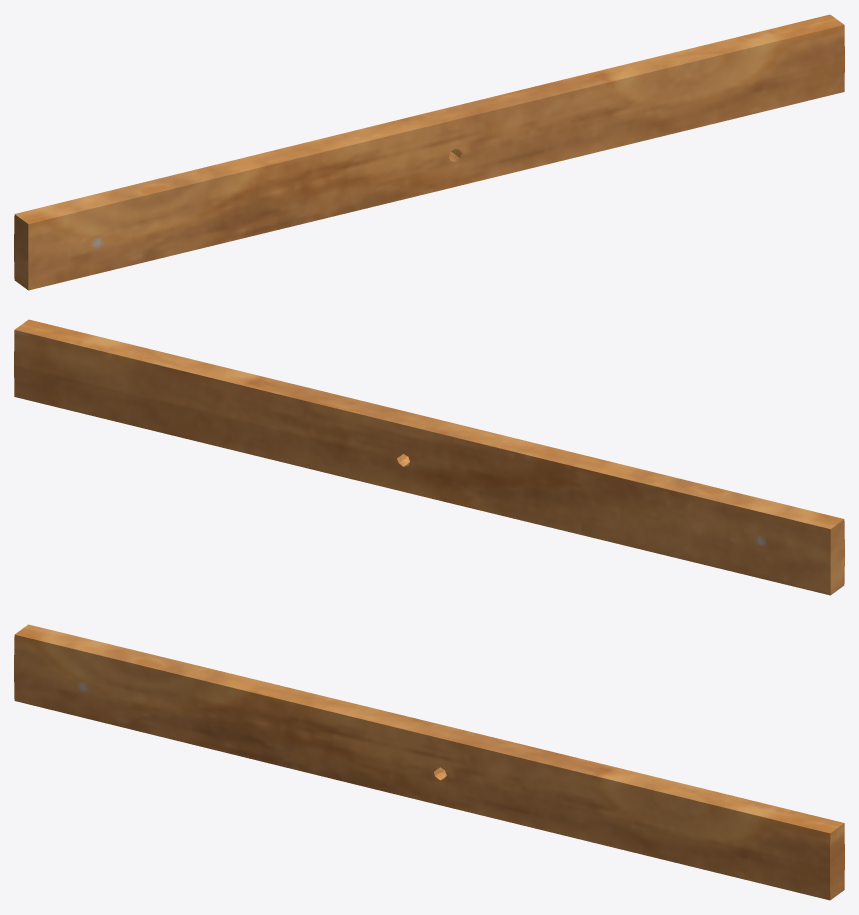
The model's file is midLog.fbx.
3 views of the same model, one above another, from view 1: azimuth 30°, elevation 25°; view 2: azimuth 150°, elevation 25°; view 3: azimuth 330°, elevation 25° (orthographic).
Visible parts, largest first — view 1: LMETB_woodlog_hole_10_geo1; view 2: LMETB_woodlog_hole_10_geo1; view 3: LMETB_woodlog_hole_10_geo1.
Part boxes in pixels (x1,y1,x2,y2): LMETB_woodlog_hole_10_geo1: (14,14,844,290); LMETB_woodlog_hole_10_geo1: (14,319,844,595); LMETB_woodlog_hole_10_geo1: (14,624,844,900).
Bounding box in the file's own units: 42.97 × 3.37 × 1.38.
